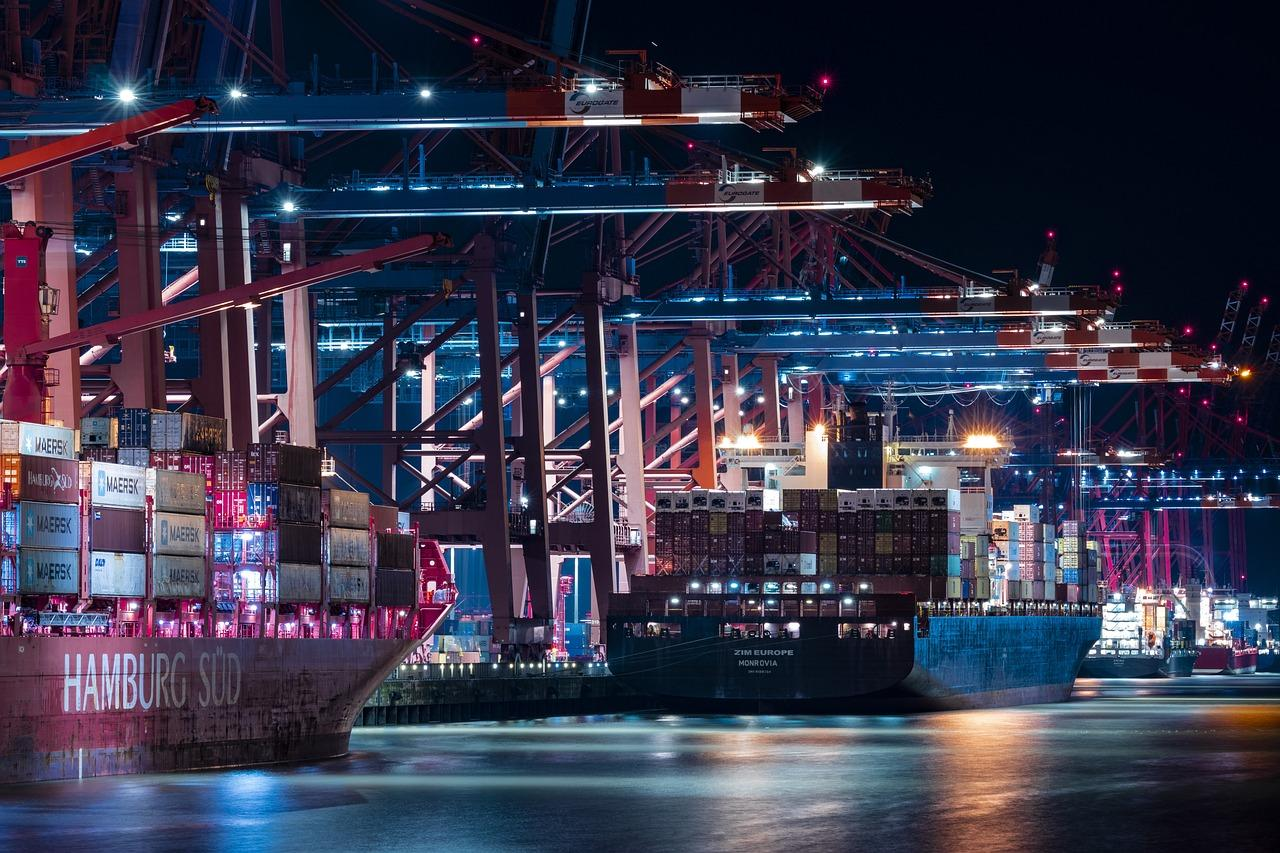Ship: (1, 411, 456, 782), (609, 489, 1101, 709)
